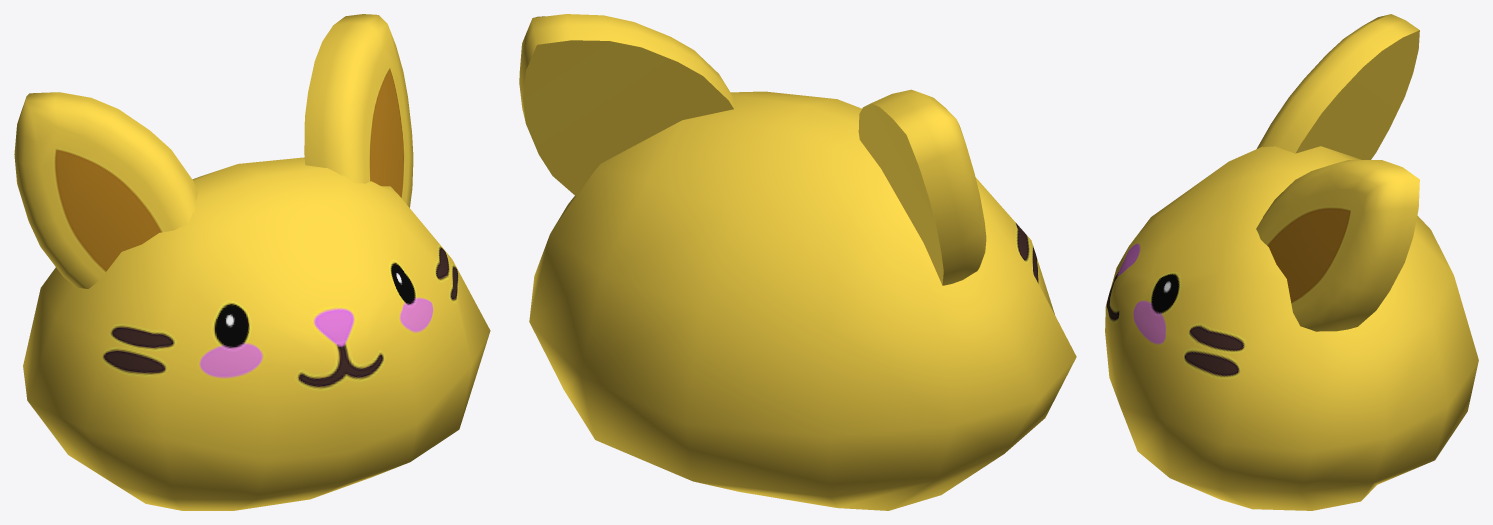
The model's file is Candy_CatHead-B.FBX.
3 renders of one model, left to right at view 1: azimuth 30°, elevation 25°; view 2: azimuth 150°, elevation 25°; view 3: azimuth 270°, elevation 25°, orthographic. The views are drawn at different scales.
Visible parts, largest first — view 1: Candy_CatHead-B; view 2: Candy_CatHead-B; view 3: Candy_CatHead-B.
Part boxes in pixels (bbox=[...]): Candy_CatHead-B: bbox=[14, 14, 490, 510]; Candy_CatHead-B: bbox=[519, 14, 1076, 510]; Candy_CatHead-B: bbox=[1105, 14, 1478, 510].
Bounding box in the file's own units: 3116 × 2512 × 2411.
1 material, 1 textured.
